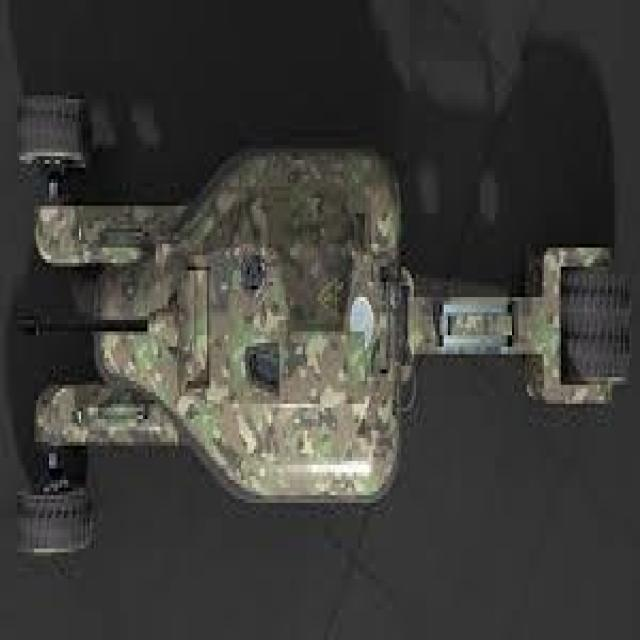Tanks: (20, 95, 498, 552)
